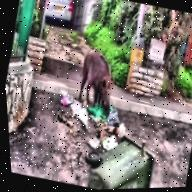boar: (69, 37, 131, 119)
